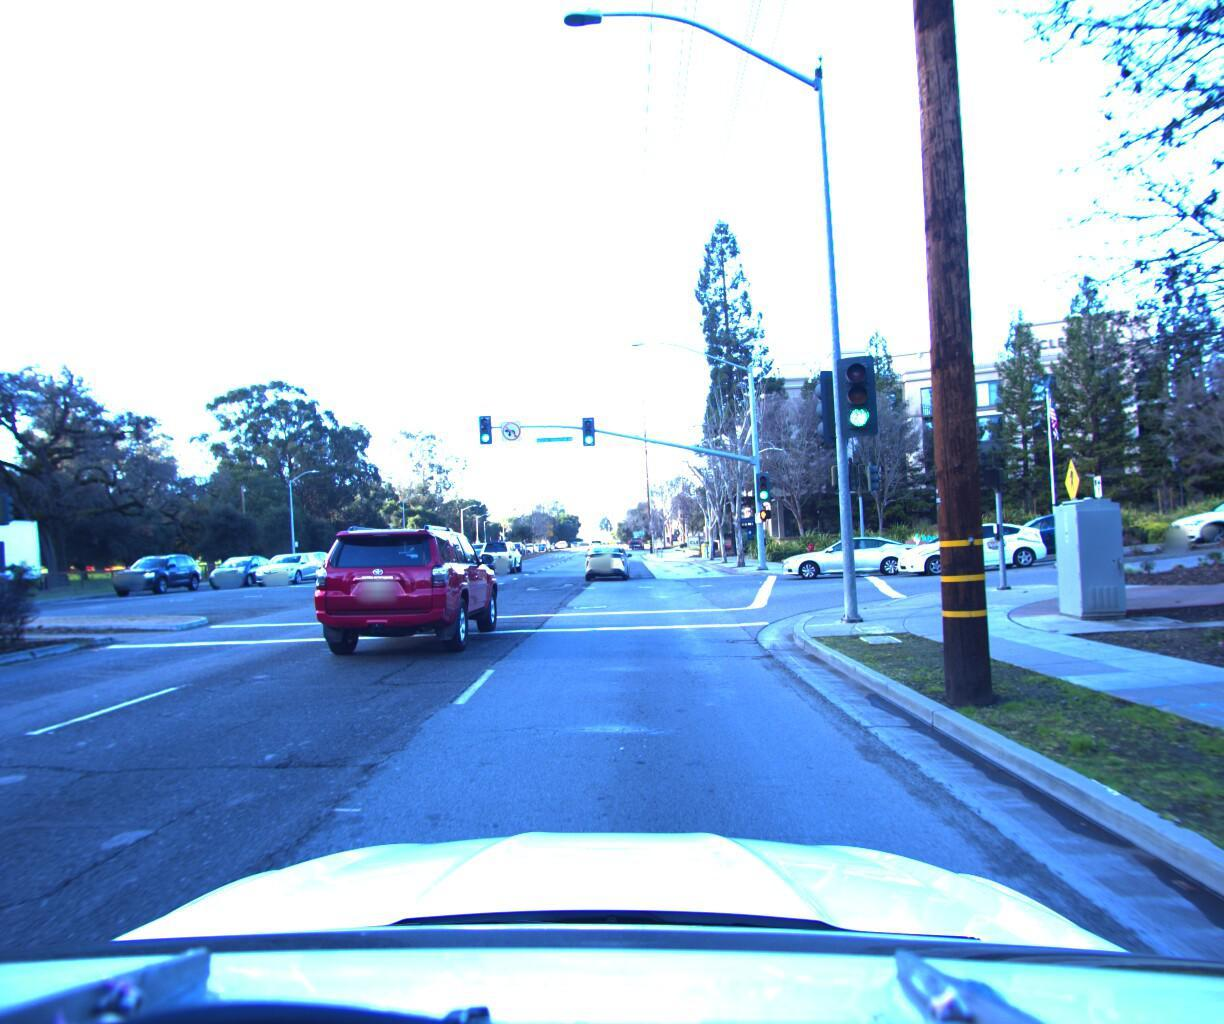car: (302, 516, 511, 667), (888, 513, 1058, 573), (967, 499, 1123, 562), (776, 526, 924, 576), (1151, 473, 1224, 544), (107, 548, 213, 595), (250, 546, 332, 584), (206, 549, 283, 586), (474, 532, 529, 571), (582, 539, 633, 579)
truck: (0, 507, 50, 627)
